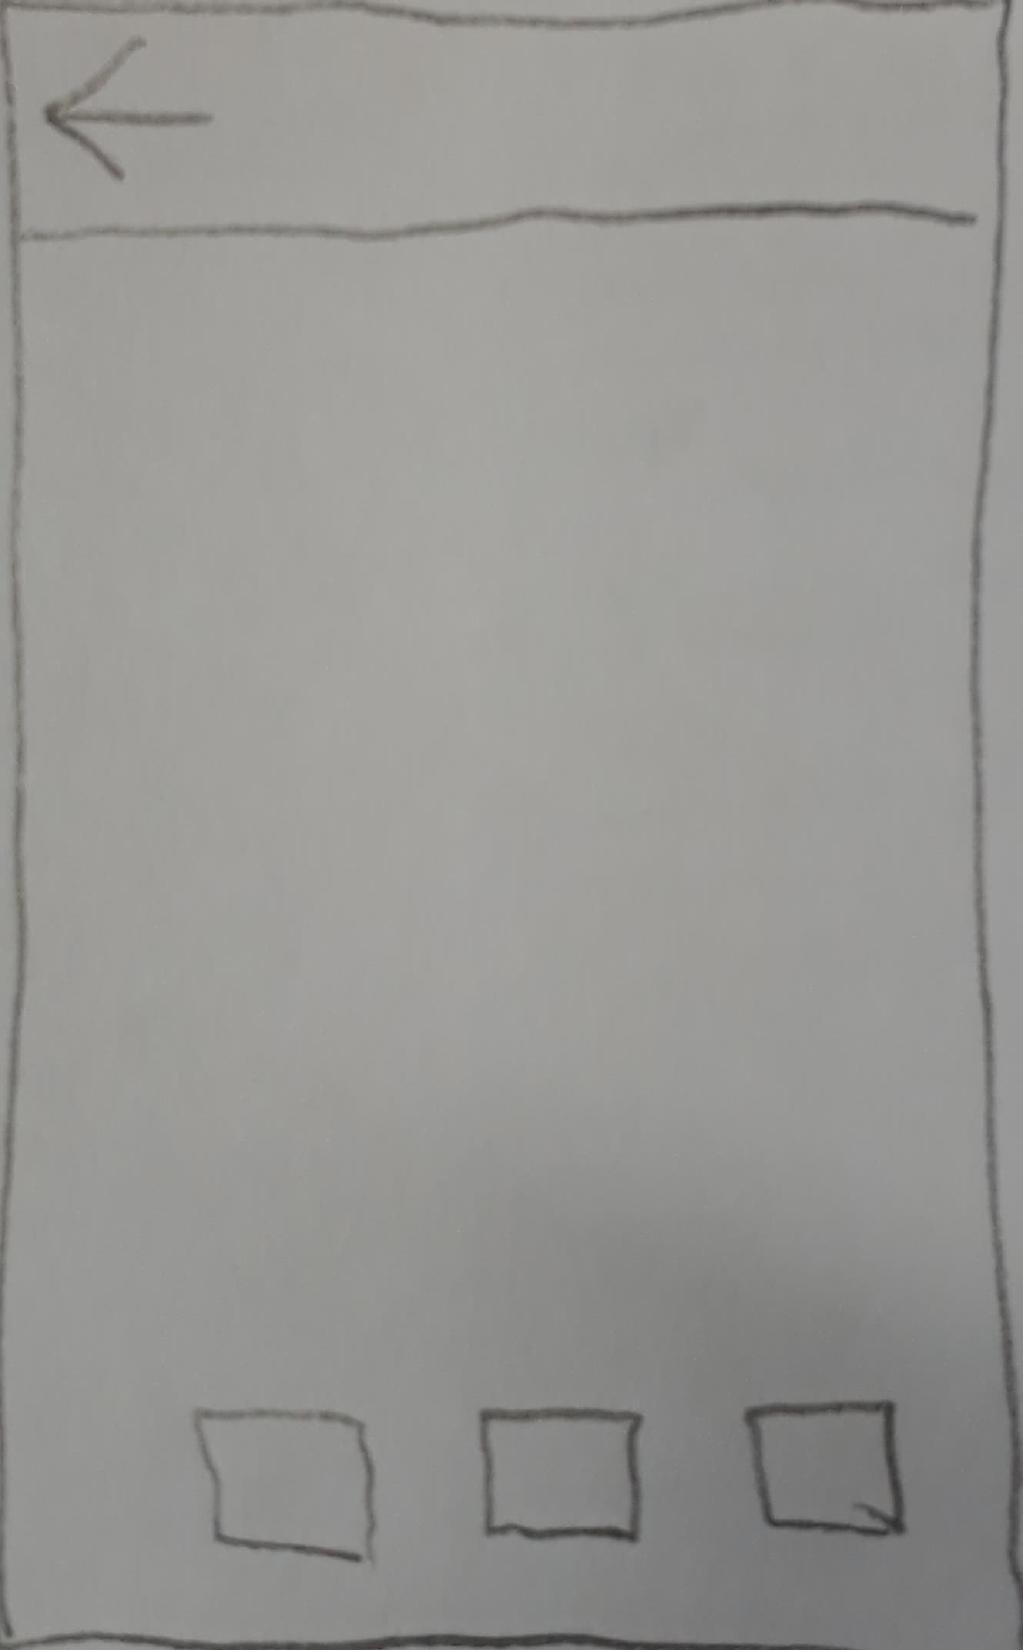Button: (40, 32, 213, 184)
Screen: (5, 5, 1019, 1649)
